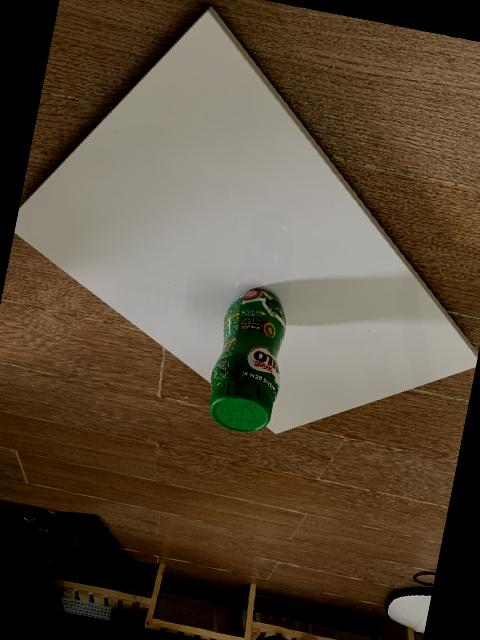milo: (208, 285, 286, 430)
